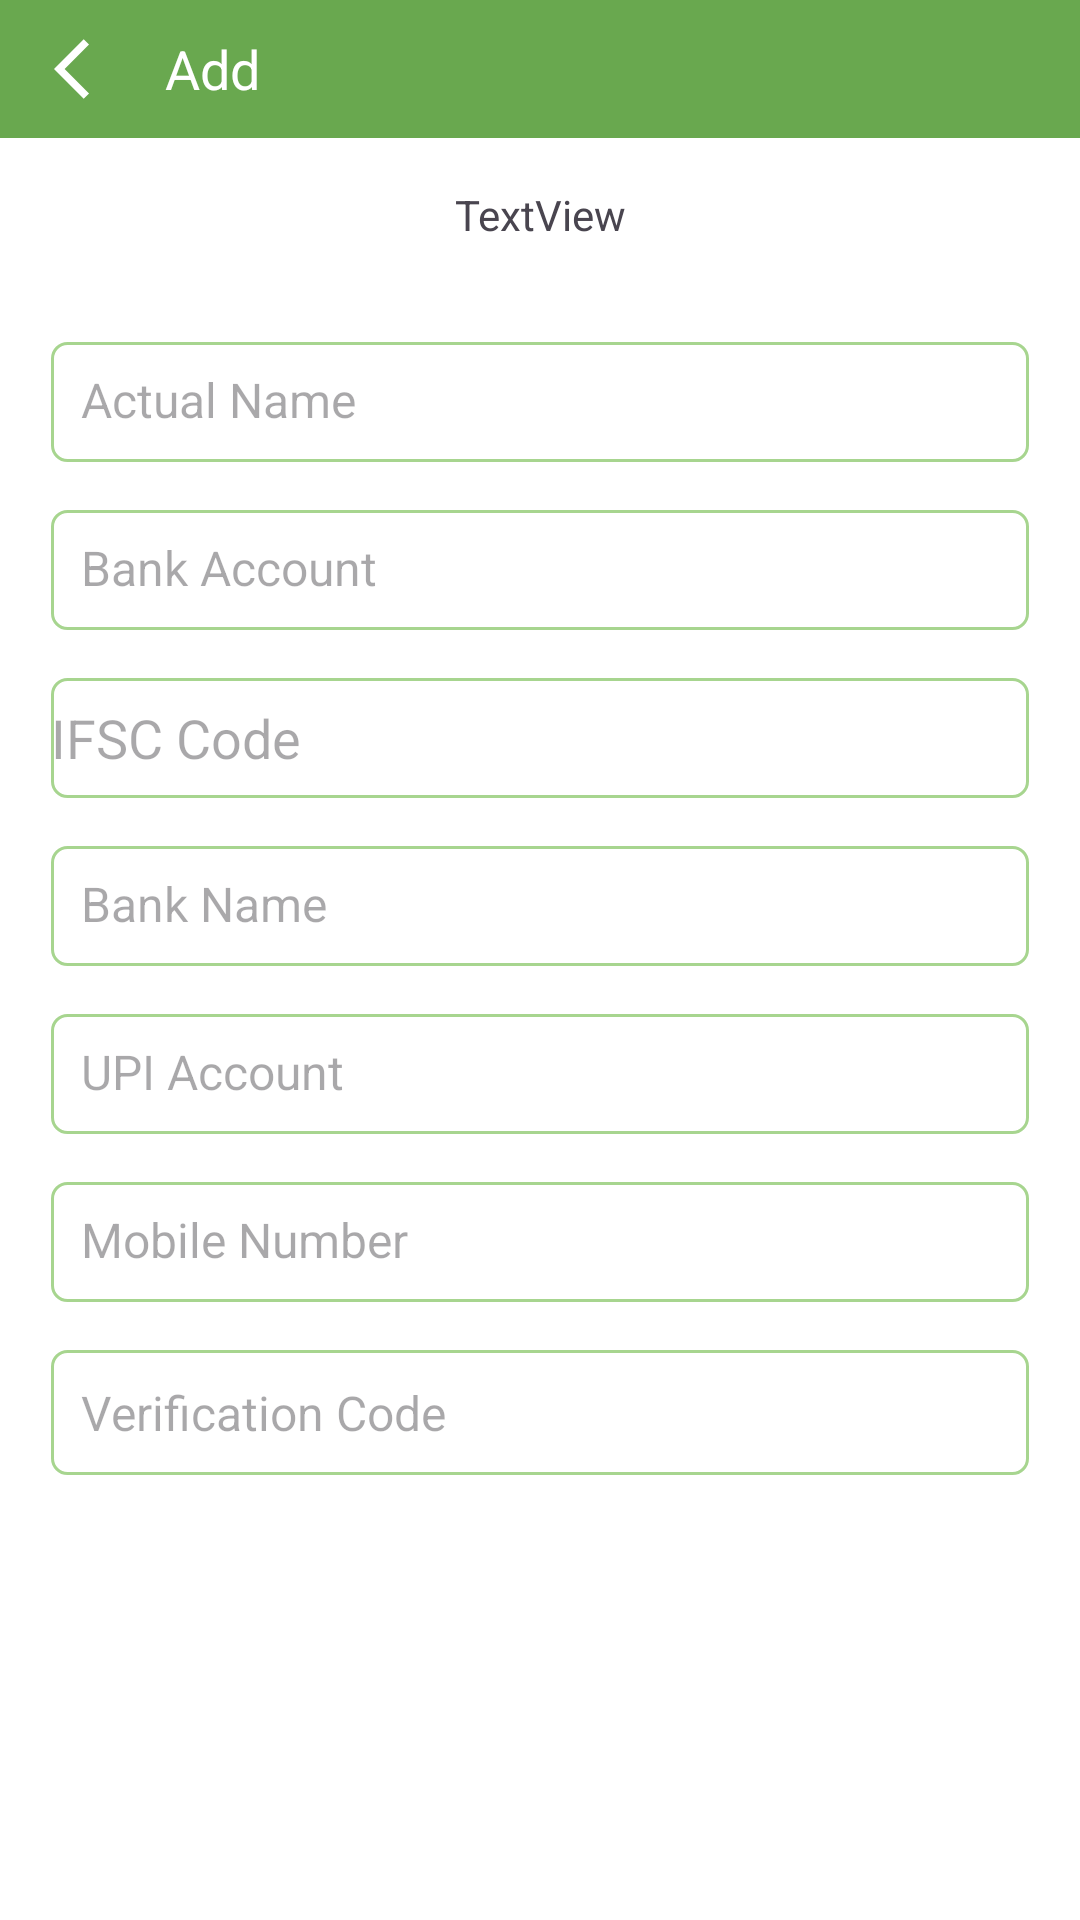

Icon click points for this 1080x1920 phone screenshot, format [x,y]:
arrow back: [71,69]
